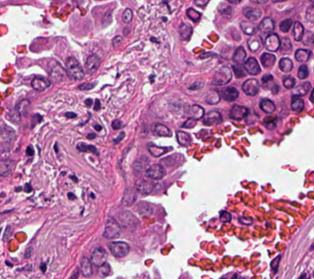nucleus: (66, 57, 83, 79), (212, 66, 231, 85), (118, 211, 138, 229), (103, 217, 120, 238), (108, 241, 129, 257), (90, 247, 106, 266), (243, 57, 260, 74), (242, 78, 259, 95), (247, 34, 263, 52), (146, 164, 165, 179), (264, 33, 279, 51), (186, 104, 204, 119), (203, 110, 221, 125), (85, 54, 99, 73), (31, 76, 50, 90), (229, 105, 248, 119), (76, 142, 98, 154), (49, 64, 64, 81), (147, 144, 168, 156), (135, 180, 152, 194), (80, 257, 92, 276), (260, 52, 275, 67), (222, 87, 238, 101), (204, 90, 220, 104), (0, 160, 14, 176), (153, 123, 170, 136), (122, 188, 135, 205), (260, 99, 275, 113), (176, 131, 190, 146), (137, 202, 152, 216), (233, 46, 245, 63), (232, 64, 245, 77), (10, 107, 19, 123), (271, 256, 280, 272), (99, 262, 110, 275), (219, 211, 231, 222), (189, 80, 203, 89), (78, 82, 96, 89), (182, 118, 196, 127), (2, 226, 10, 240), (114, 132, 124, 143), (133, 160, 143, 171), (239, 216, 252, 224), (261, 74, 272, 83), (112, 36, 121, 46), (111, 120, 121, 129), (25, 247, 32, 257), (94, 99, 100, 110), (26, 146, 33, 155), (84, 98, 91, 106), (65, 112, 75, 117), (71, 269, 77, 277), (94, 124, 101, 130), (25, 184, 31, 191), (68, 192, 75, 198), (87, 133, 95, 138), (41, 264, 45, 271), (151, 38, 157, 41)
